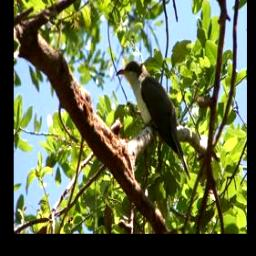Cuckoo: (114, 60, 189, 181)
